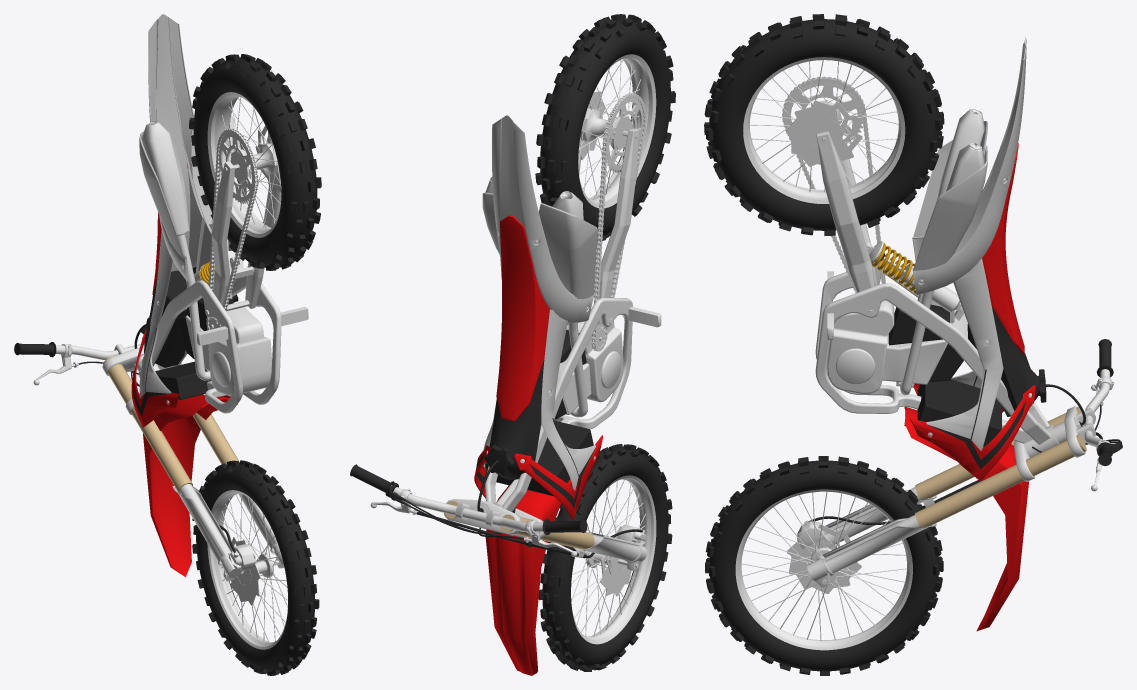
Rendered from CrossBike.fbx.
The picture shows the model from 3 angles, left to right: view 1: azimuth 30°, elevation 25°; view 2: azimuth 150°, elevation 25°; view 3: azimuth 270°, elevation 25°; orthographic projection. The views are drawn at different scales.
Parts seen in each view (by area): view 1: Tyre, Skin, Fork, Tyre.001, Frame, Motor, RearWheel, ForwardWheel, Pipe, RearFork, Shields, ForwardAxis (+7 smaller); view 2: Skin, Tyre, Fork, Tyre.001, Frame, ForwardWheel, RearWheel, Shields, Motor, RearFork, Cain, Radiator (+6 smaller); view 3: Tyre, Skin, Tyre.001, Fork, Frame, Motor, ForwardWheel, RearWheel, Shields, RearFork, Pipe, BrakeDisk (+10 smaller).
Part boxes in pixels (x1,y1,x2,y2): Tyre: [189, 54, 321, 270]; Skin: [131, 14, 232, 427]; Fork: [14, 294, 239, 576]; Tyre.001: [192, 460, 319, 675]; Frame: [134, 276, 281, 413]; Motor: [177, 307, 271, 396]; RearWheel: [207, 92, 281, 237]; ForwardWheel: [207, 490, 287, 649]; Pipe: [141, 115, 234, 380]; RearFork: [211, 161, 281, 308]; Shields: [139, 123, 247, 258]; ForwardAxis: [179, 484, 284, 581]; Skin: [474, 115, 602, 520]; Tyre: [535, 14, 675, 240]; Fork: [350, 464, 594, 675]; Tyre.001: [538, 444, 672, 671]; Frame: [485, 298, 632, 513]; ForwardWheel: [571, 475, 656, 644]; RearWheel: [578, 54, 656, 208]; Shields: [482, 192, 597, 299]; Motor: [554, 321, 623, 419]; RearFork: [578, 128, 639, 324]; Cain: [591, 93, 646, 351]; Radiator: [485, 420, 593, 496]; Tyre: [704, 14, 944, 235]; Skin: [910, 37, 1046, 480]; Tyre.001: [705, 456, 943, 675]; Fork: [904, 339, 1122, 631]; Frame: [815, 258, 1066, 457]; Motor: [827, 300, 963, 394]; ForwardWheel: [735, 489, 912, 650]; RearWheel: [743, 57, 905, 203]; Shields: [913, 121, 987, 270]; RearFork: [816, 131, 877, 292]; Pipe: [897, 109, 984, 395]; BrakeDisk: [786, 100, 862, 166].
Bounding box in the file's own units: 84.17 × 221 × 127.
